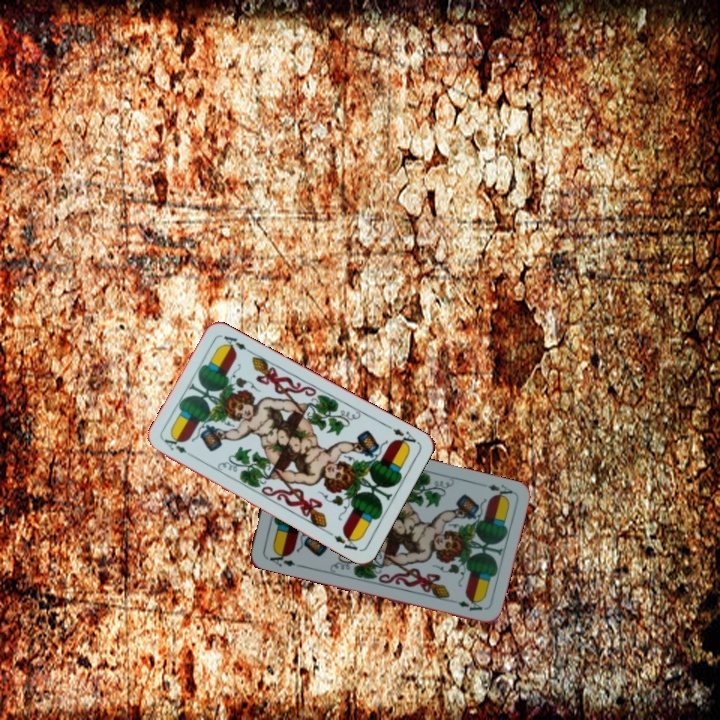EA: (382, 420, 420, 449), (262, 547, 303, 570), (484, 480, 515, 502), (160, 435, 189, 456)
